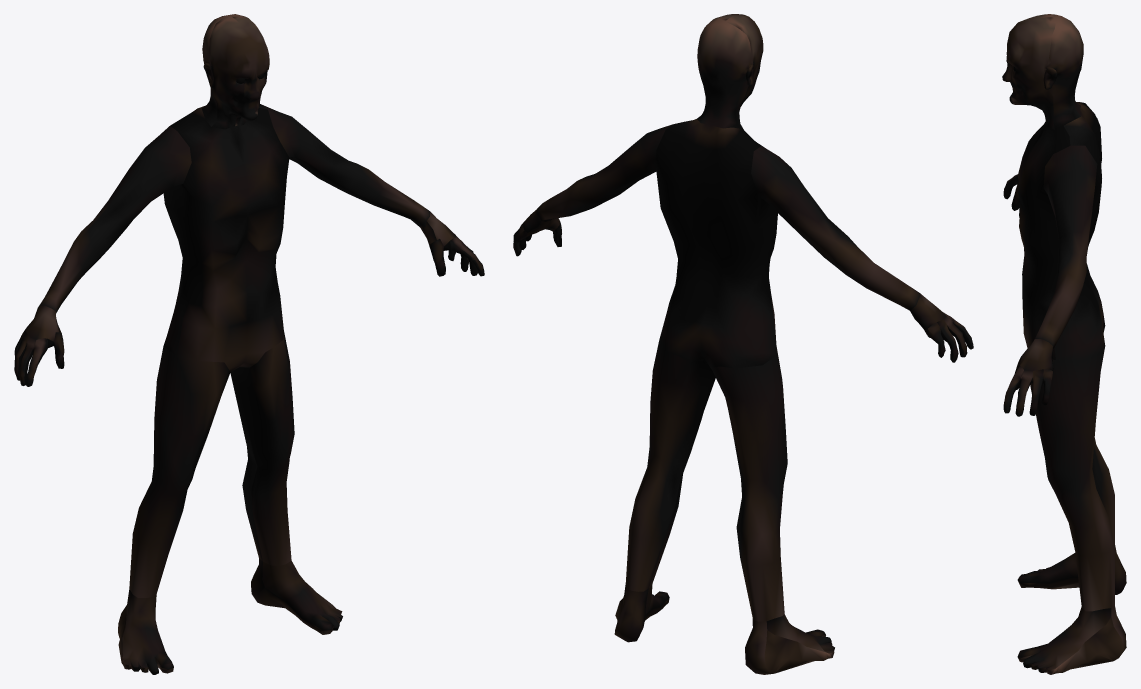
Rendered from scp-106.glb.
The picture shows the model from 3 angles, left to right: view 1: azimuth 30°, elevation 25°; view 2: azimuth 150°, elevation 25°; view 3: azimuth 270°, elevation 25°; orthographic projection. The views are drawn at different scales.
Visible parts, largest first — view 1: body; view 2: body; view 3: body.
Part boxes in pixels (x1=…): body: x1=14, y1=14, x2=484, y2=674; body: x1=513, y1=14, x2=973, y2=674; body: x1=1002, y1=14, x2=1126, y2=674.
Size of the model in its own units: 7.06 by 9.26 by 1.71.
